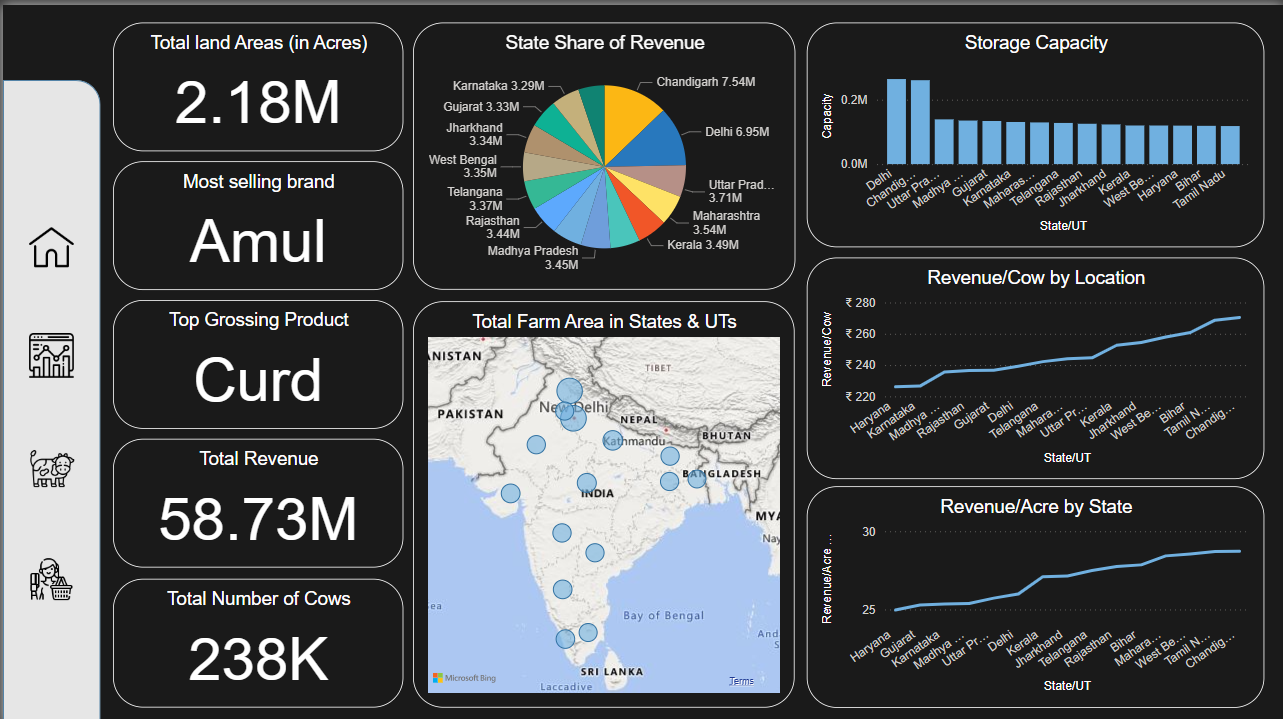

Layout of this report page (visuals, bound fields, positions):
{"tool":"powerbi","page":{"name":"Genral Stats","canvas":[1280,720],"ordinal":1},"visuals":[{"type":"lineChart","title":"Revenue/Cow by Location","fields":{"Category":["State Summary.Location"],"Y":["Sum(State Summary.Revenue per Cow)"]},"box":[803.8,252.5,457.5,221.2],"z":0},{"type":"lineChart","title":"Revenue/Acre by State","fields":{"Category":["State Summary.Location"],"Y":["Sum(State Summary.Revenue per Accre)"]},"box":[803.8,481.2,457.5,221.2],"z":1000},{"type":"map","title":"Total Farm Area in States & UTs","fields":{"Size":["Sum(Dairy_Data.Total Land Area (acres))"],"Category":["State Summary.Location"]},"box":[410,296.2,381.2,406.2],"z":2000},{"type":"card","title":"Most selling brand","fields":{"Values":["Min(Dairy_Data.Brand)"]},"box":[110.4,156.2,290,128.8],"z":3000},{"type":"card","title":"Top Grossing Product","fields":{"Values":["Min(Dairy_Data.Product Name)"]},"box":[110.4,295.3,290,128.8],"z":4000},{"type":"card","title":"Total Revenue","fields":{"Values":["Sum(Dairy_Data.Approx. Total Revenue(INR))"]},"box":[110.4,434.4,290,128.8],"z":5000},{"type":"card","title":"Total Number of Cows","fields":{"Values":["Sum(Dairy_Data.Number of Cows)"]},"box":[110.4,573.4,290,128.8],"z":6000},{"type":"card","title":"Total land Areas (in Acres)","fields":{"Values":["Sum(Dairy_Data.Total Land Area (acres))"]},"box":[110.4,17.2,290,128.8],"z":7000},{"type":"columnChart","title":"Storage Capacity","fields":{"Category":["Dairy_Data.Location"],"Y":["Sum(Dairy_Data.Quantity (liters/kg))"]},"box":[803.8,17.5,457.5,225],"z":8000},{"type":"pieChart","title":"State Share of Revenue","fields":{"Category":["Dairy_Data.Location"],"Y":["Sum(Dairy_Data.Approx. Total Revenue(INR))"]},"box":[410,17.5,382.5,267.5],"z":9000},{"type":"shape","box":[0,75,97.5,645],"z":10000},{"type":"image","box":[21.2,214.8,54.8,54.8],"z":11000},{"type":"image","box":[21.3,319.8,54.7,61.3],"z":12000},{"type":"image","box":[23.1,431.4,53.8,65],"z":13000},{"type":"image","box":[21.3,546.7,54.7,55.3],"z":14000}]}

Visuals, with their boxes in screenshot pixels (x1, y1, x2, y2), scaled from the page's 1280x720 canvas onto the 1283x719 screenshot:
"Revenue/Cow by Location" lineChart: [806, 252, 1264, 473]
"Revenue/Acre by State" lineChart: [806, 481, 1264, 701]
"Total Farm Area in States & UTs" map: [411, 296, 793, 701]
"Most selling brand" card: [111, 156, 401, 285]
"Top Grossing Product" card: [111, 295, 401, 424]
"Total Revenue" card: [111, 434, 401, 562]
"Total Number of Cows" card: [111, 573, 401, 701]
"Total land Areas (in Acres)" card: [111, 17, 401, 146]
"Storage Capacity" columnChart: [806, 17, 1264, 242]
"State Share of Revenue" pieChart: [411, 17, 794, 285]
shape: [0, 75, 98, 718]
image: [21, 215, 76, 269]
image: [21, 319, 76, 381]
image: [23, 431, 77, 496]
image: [21, 546, 76, 601]
